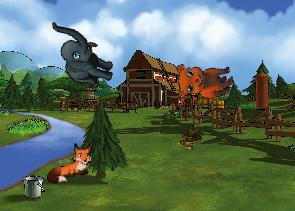bear: (171, 52, 237, 105)
elephant: (41, 21, 121, 90)
fox: (40, 139, 99, 186)
